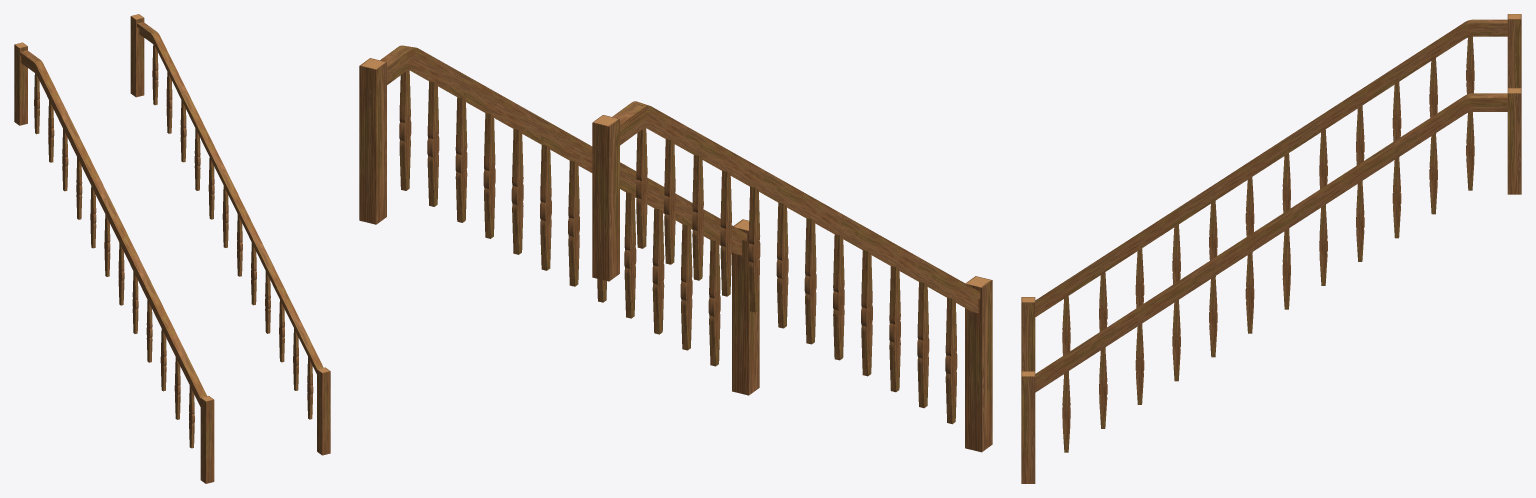
File: Stair_Interior_Rails.gltf
The picture shows the model from 3 angles, left to right: view 1: azimuth 30°, elevation 25°; view 2: azimuth 150°, elevation 25°; view 3: azimuth 270°, elevation 25°; orthographic projection. The views are drawn at different scales.
Parts seen in each view (by area): view 1: Stair_Interior_Rails; view 2: Stair_Interior_Rails; view 3: Stair_Interior_Rails.
Boxes of the visible parts, box(x1,y1,x2,y2) form: Stair_Interior_Rails: box(14, 14, 330, 483); Stair_Interior_Rails: box(359, 45, 992, 452); Stair_Interior_Rails: box(1021, 14, 1521, 483).
Size of the model in its own units: 1.72 by 3.93 by 4.56.
1 material, 1 textured.
